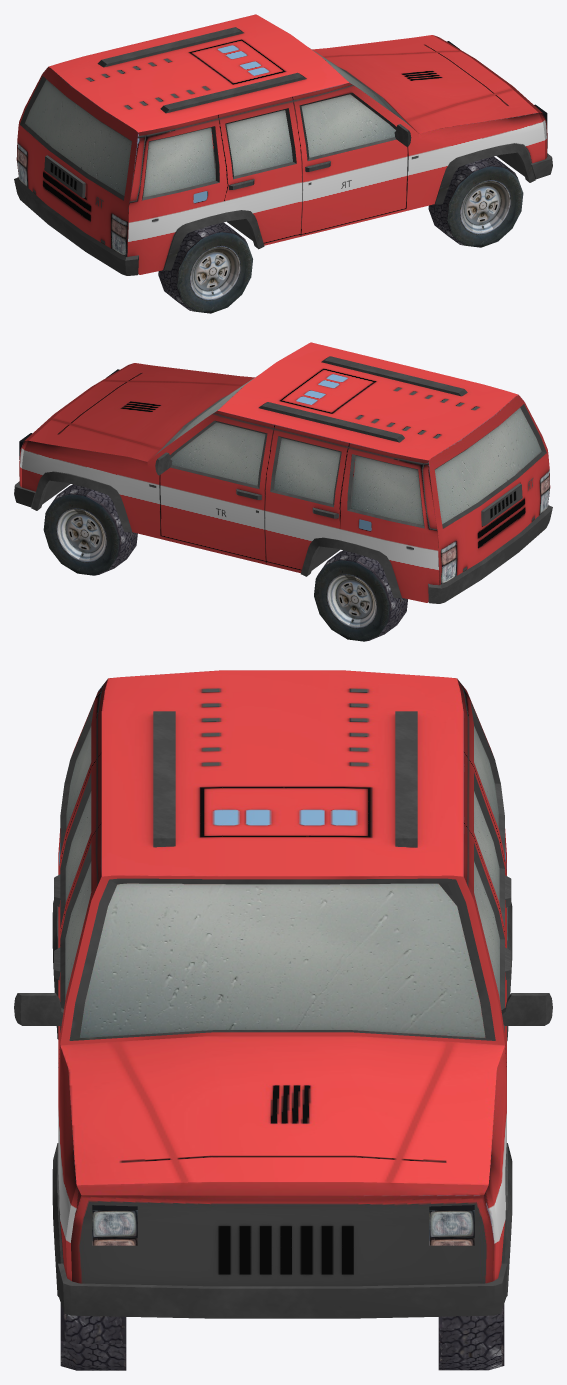
Rendered from jeep.fbx.
The picture shows the model from 3 angles, top to bottom: view 1: azimuth 30°, elevation 25°; view 2: azimuth 150°, elevation 25°; view 3: azimuth 270°, elevation 25°; orthographic projection. The views are drawn at different scales.
Parts seen in each view (by area): view 1: jeep; view 2: jeep; view 3: jeep.
Part boxes in pixels (<box>): jeep: <box>14,14,552,313</box>; jeep: <box>14,342,552,641</box>; jeep: <box>14,670,552,1370</box>.
Bounding box in the file's own units: 4.53 × 1.9 × 2.49.
